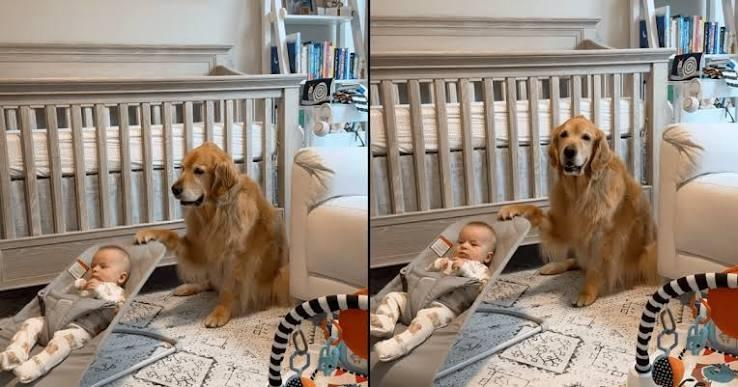adult_dog: (496, 114, 659, 307), (134, 141, 292, 329)
